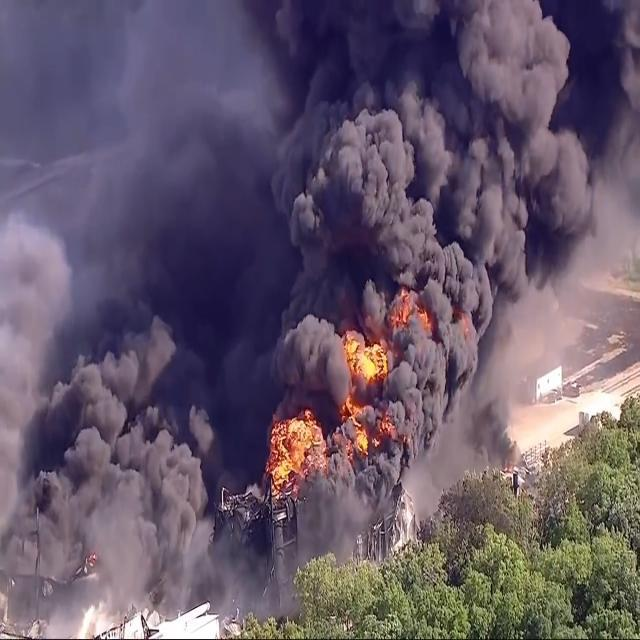Fire: (261, 279, 461, 501)
Smoke: (260, 0, 639, 514), (0, 322, 211, 632)
